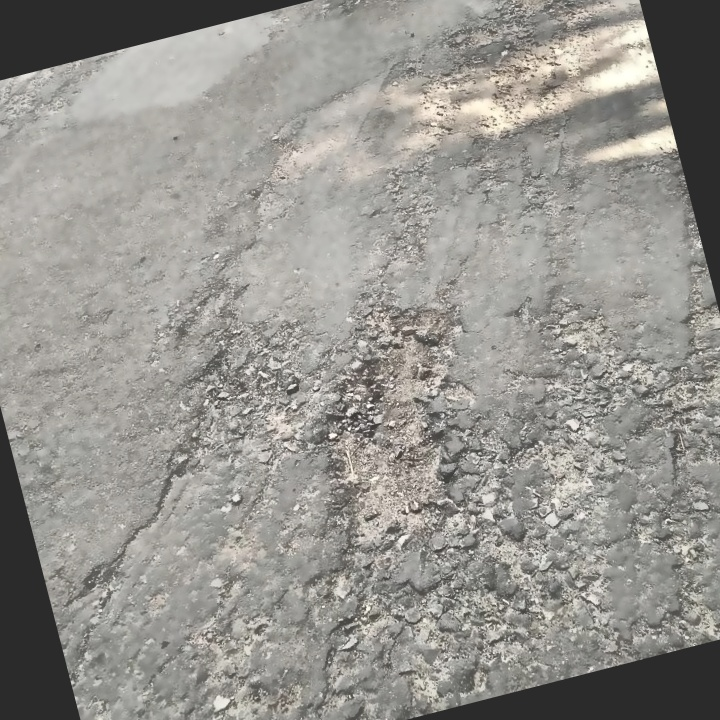pothole: (284, 284, 520, 561), (184, 323, 313, 441)
